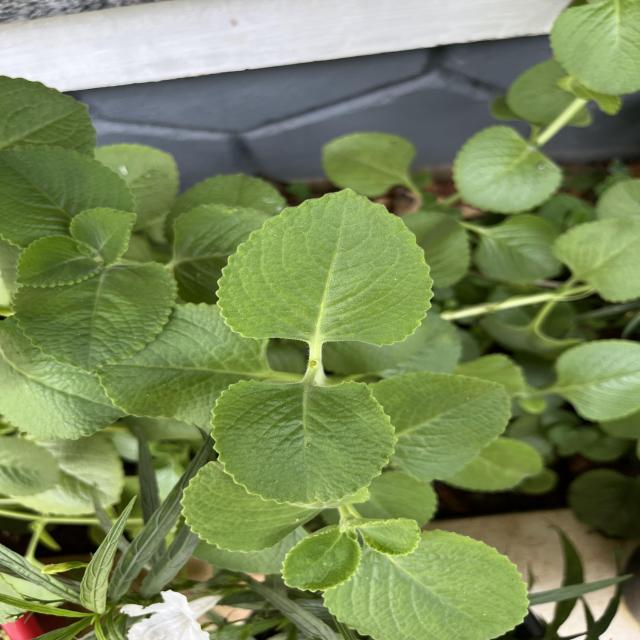Plectranthus barbatus: (214, 186, 437, 349), (208, 374, 399, 508), (322, 528, 532, 640), (12, 262, 180, 378), (370, 371, 508, 482), (0, 140, 137, 251), (450, 124, 563, 214), (280, 528, 363, 594), (15, 234, 106, 288)
